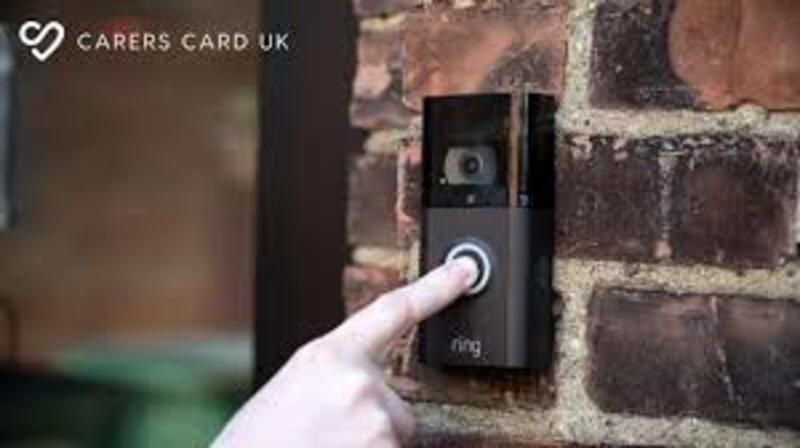doorbell: (412, 85, 548, 392)
